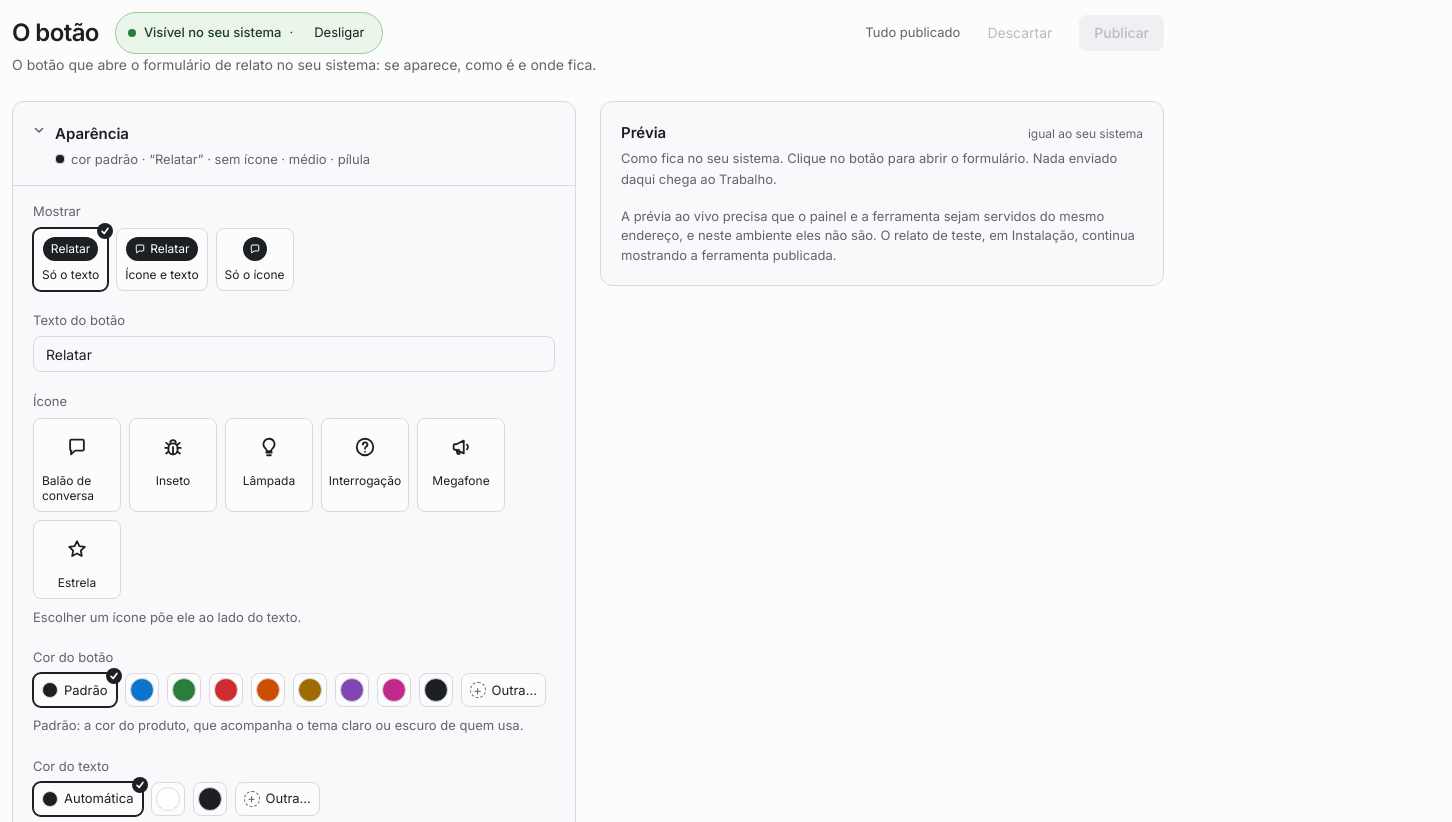
it: WidgetSettingsScreen › a pílula do cabeçalho liga e desliga, e desligado avisa o que para
expect the text "Visível no seu sistema" is shown: met, box [144,23,282,43]
Click the button with aria-label "Desligar o botão no seu sistema". click: (339, 33)
box: [301,17,378,49]
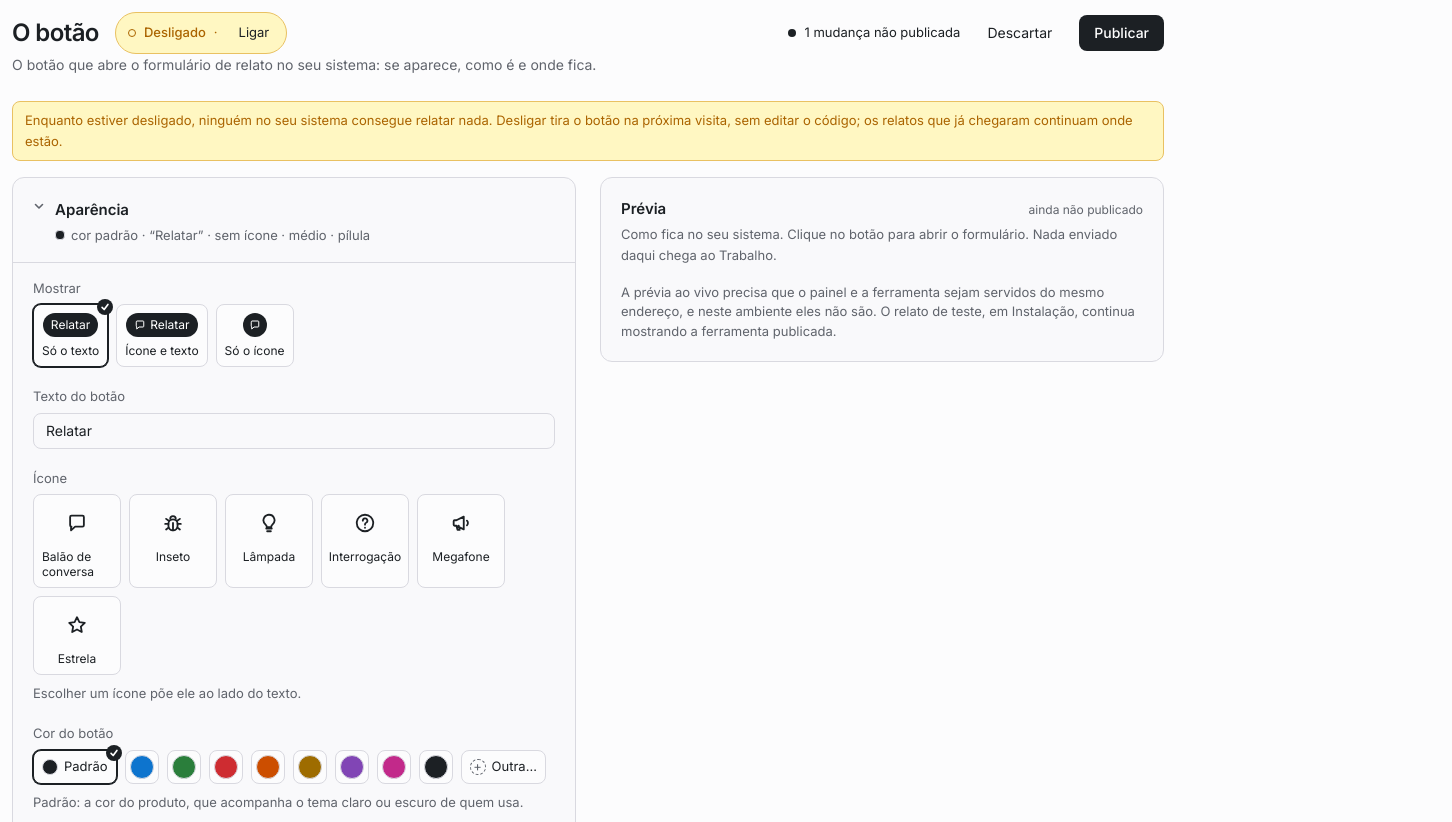
expect the text "Desligado" is shown: met, box [144,23,206,43]
expect the text "ninguém no seu sistema consegue relatar" is shown: met, box [25,112,1133,149]
Click the button with aria-label "Ligar o botão no seu sistema". click: (254, 33)
box: [226,17,282,49]
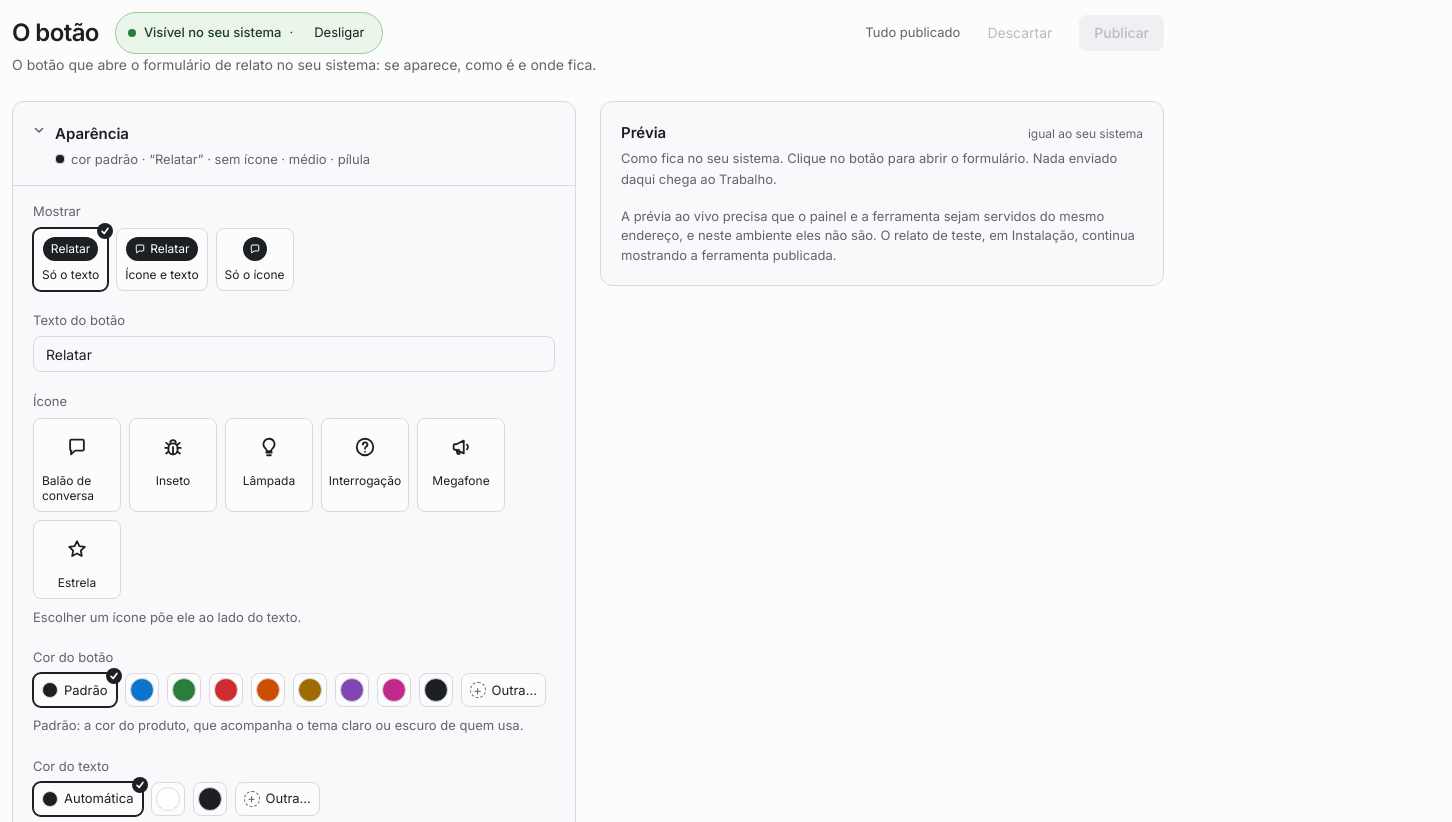
expect the text "Visível no seu sistema" is shown: met, box [144,23,282,43]
expect the text "ninguém no seu sistema consegue relatar" is gone: met
